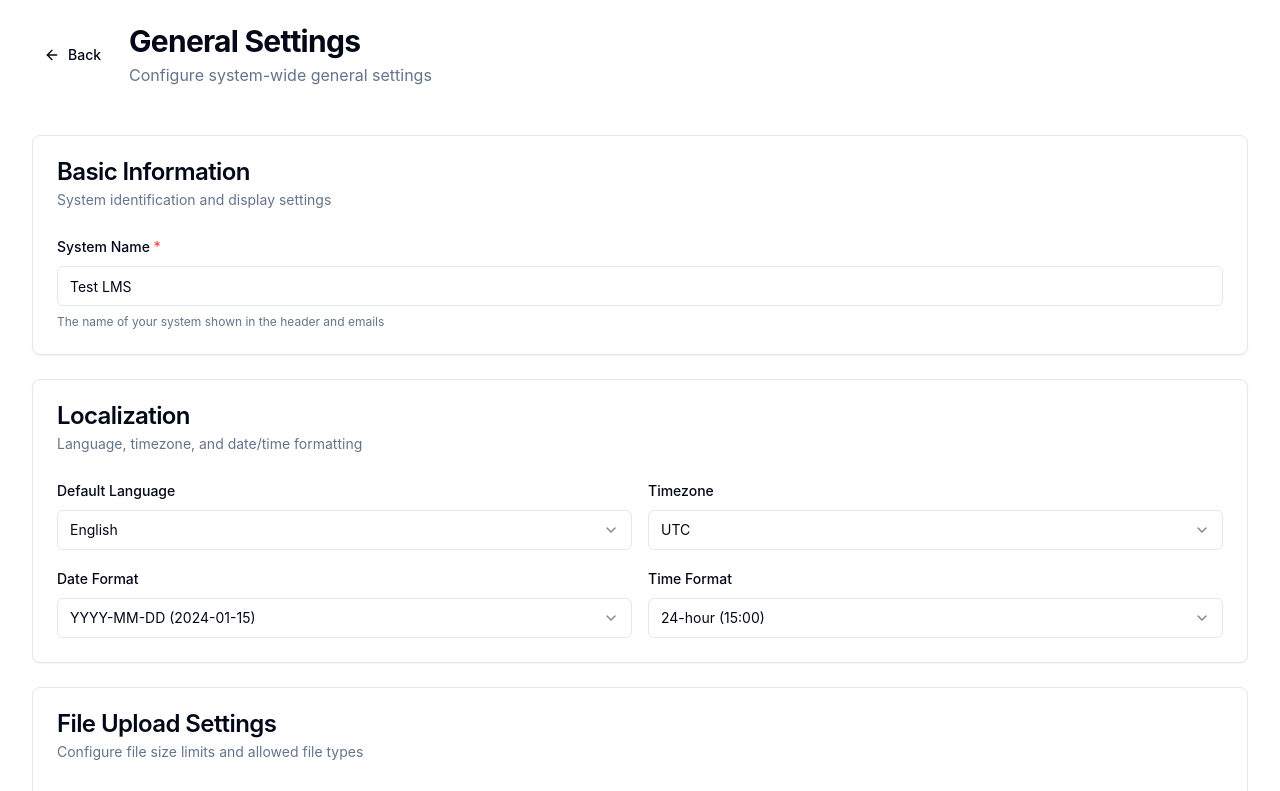
GeneralSettingsPage › Form Validation › should validate required fields
Clear the field labelled "System Name *" at point(640, 286), box [57, 266, 1223, 306]
(page scrolled)
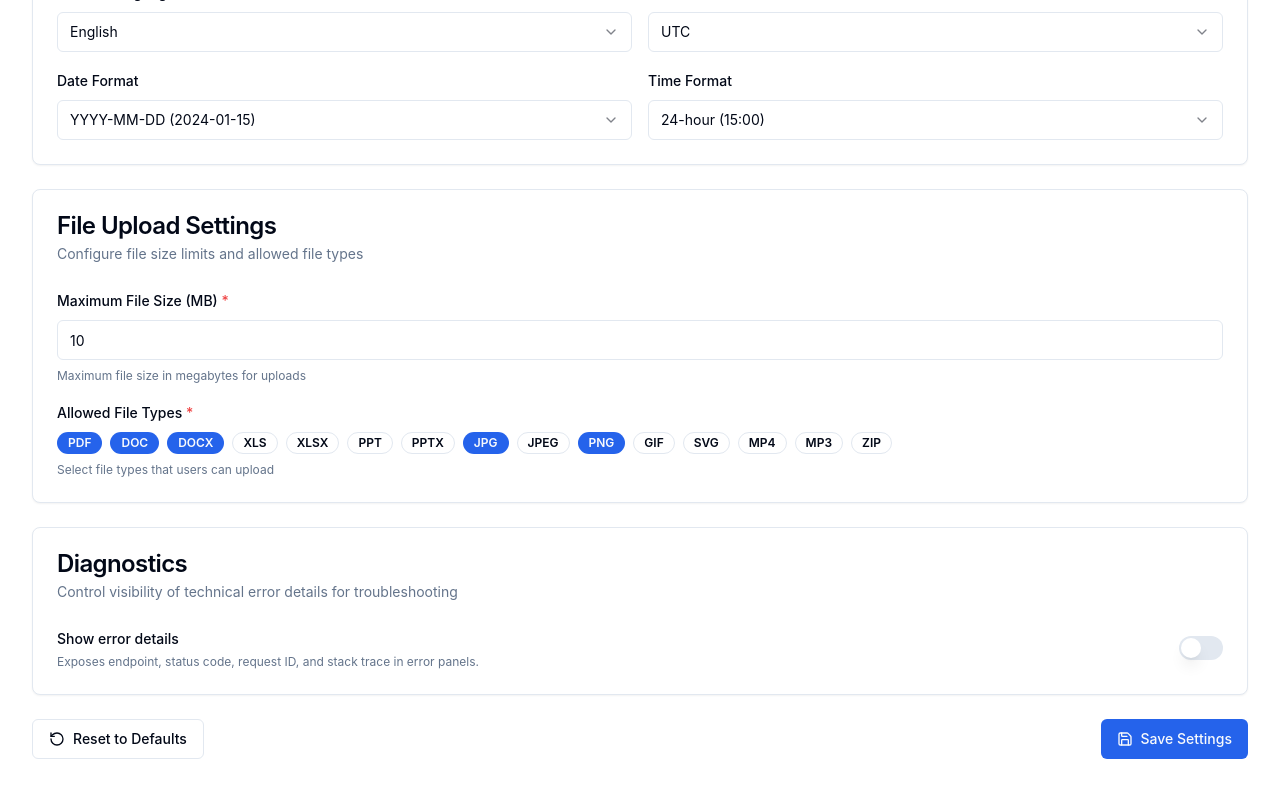
Click the button "Save Settings" at point(1174, 739), box [1101, 719, 1248, 759]
(page scrolled)
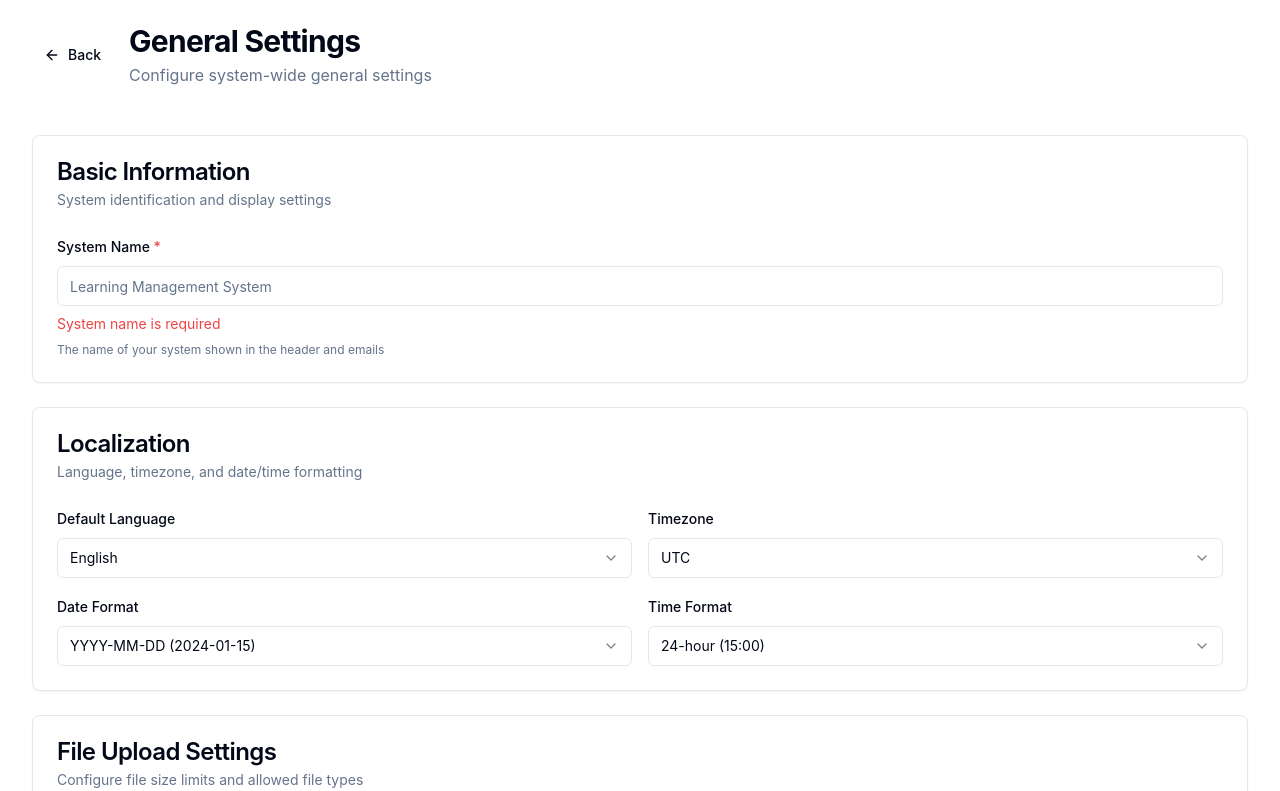
Check: the text "System name is required" is shown, box [57, 315, 220, 332]
